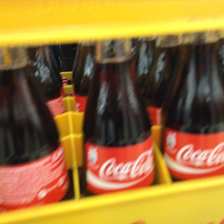soda: (81, 39, 155, 195), (1, 47, 67, 211), (162, 35, 224, 179)
